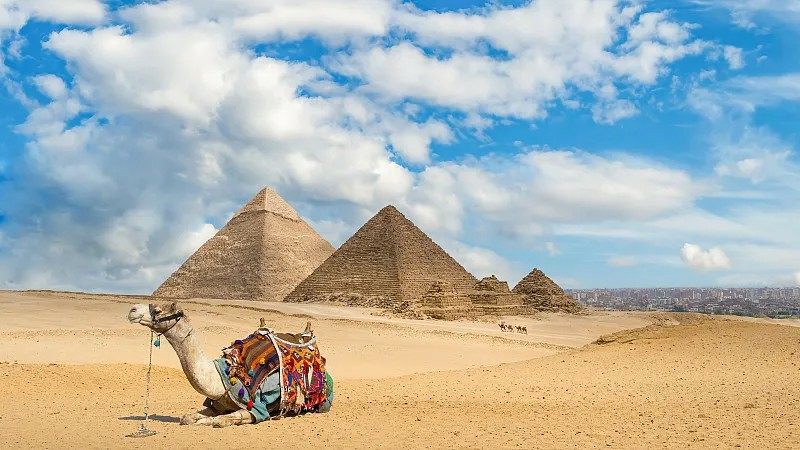Pyramid: (150, 185, 337, 299), (282, 205, 482, 303), (511, 268, 566, 296)
